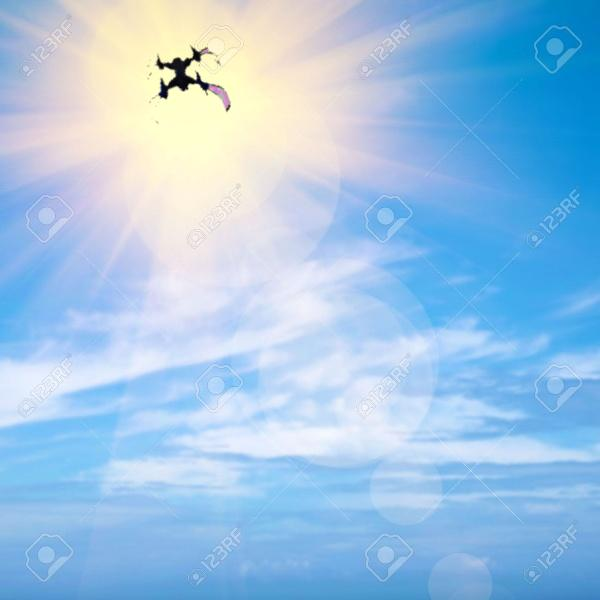drone: (138, 40, 232, 134)
